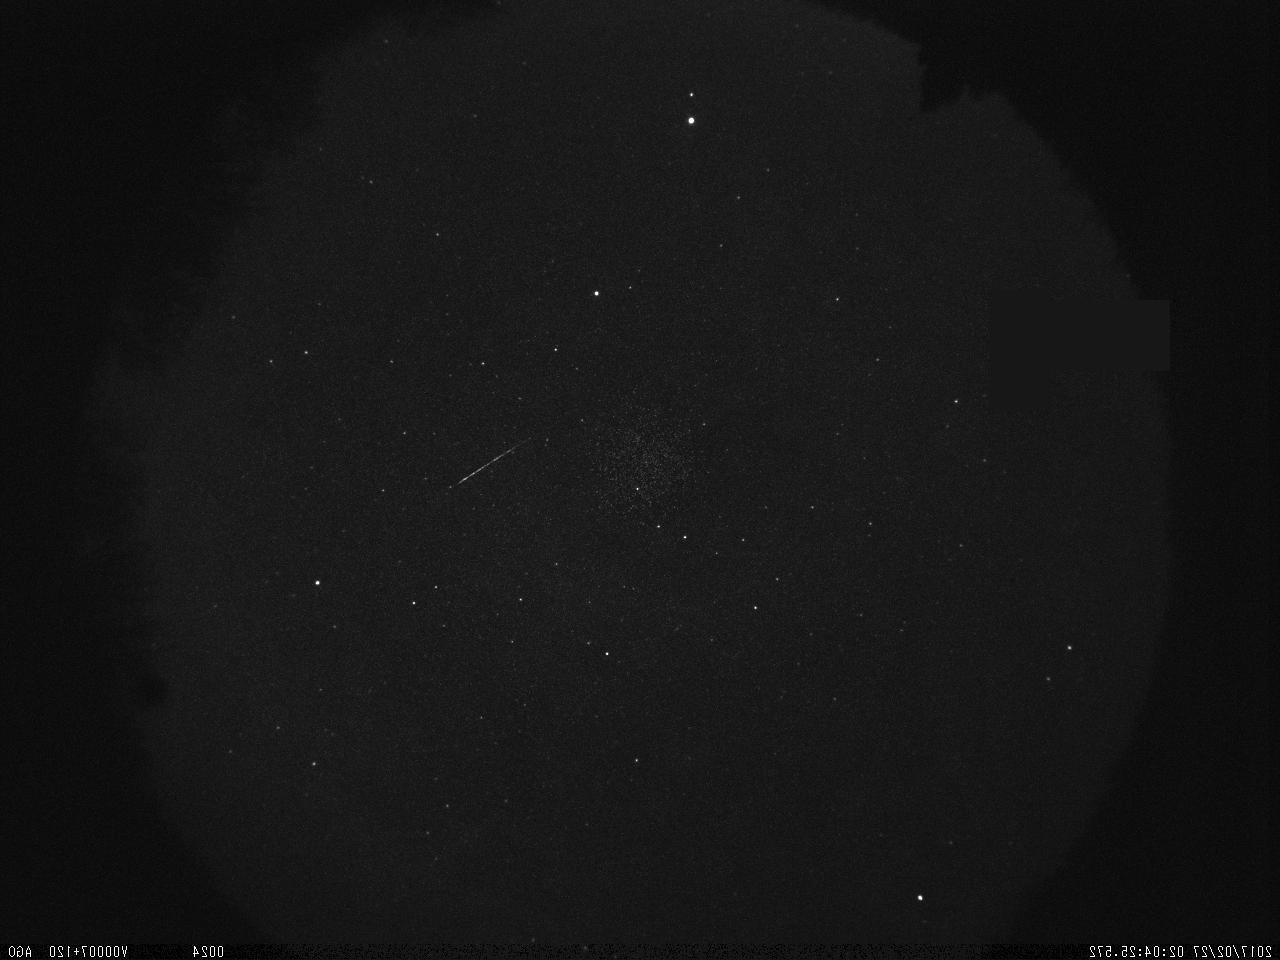meteor: (431, 432, 541, 498)
